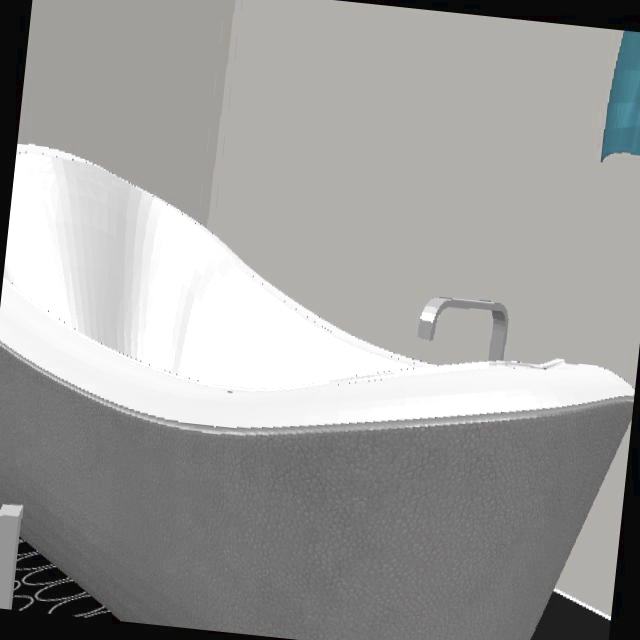bathtube: (0, 144, 634, 640)
